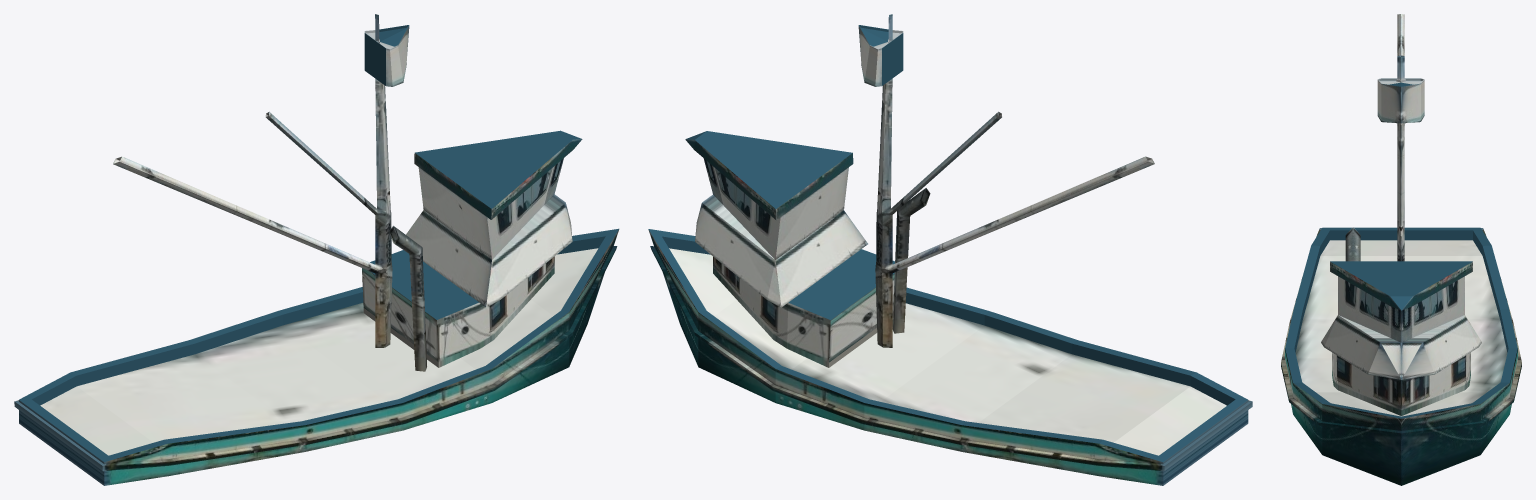
File: middelgrote_boot.fbx
The picture shows the model from 3 angles, left to right: view 1: azimuth 30°, elevation 25°; view 2: azimuth 150°, elevation 25°; view 3: azimuth 270°, elevation 25°; orthographic projection. The views are drawn at different scales.
Parts seen in each view (by area): view 1: cool_midboot; view 2: cool_midboot; view 3: cool_midboot.
Boxes of the visible parts, box(x1,y1,x2,y2) form: cool_midboot: box(14, 14, 619, 485); cool_midboot: box(648, 14, 1252, 485); cool_midboot: box(1281, 14, 1521, 485).
Size of the model in its own units: 101 by 62.08 by 40.33.
